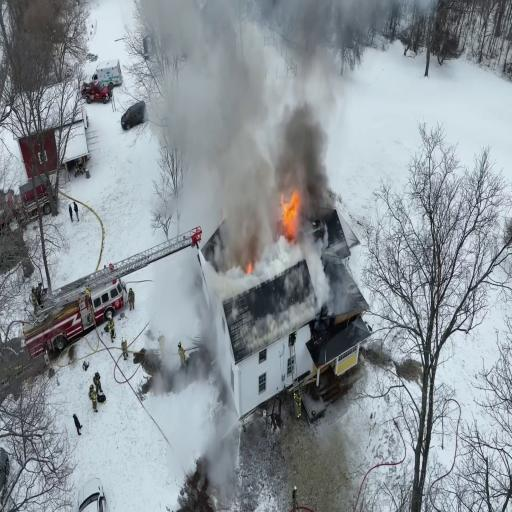fire: (277, 188, 300, 240)
smoke: (287, 104, 331, 180)
